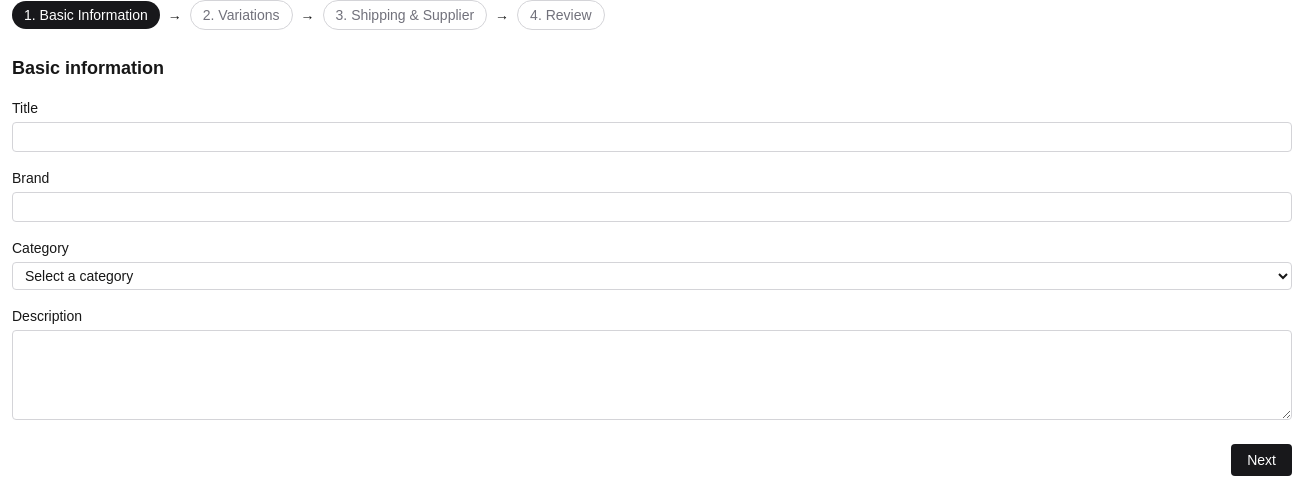
VariationsStep › starts with no variations
The width and height of the screenshot is (1304, 493).
Type "Wireless Mouse" into the field labelled "Title" at (652,137), box [12,122,1292,152]
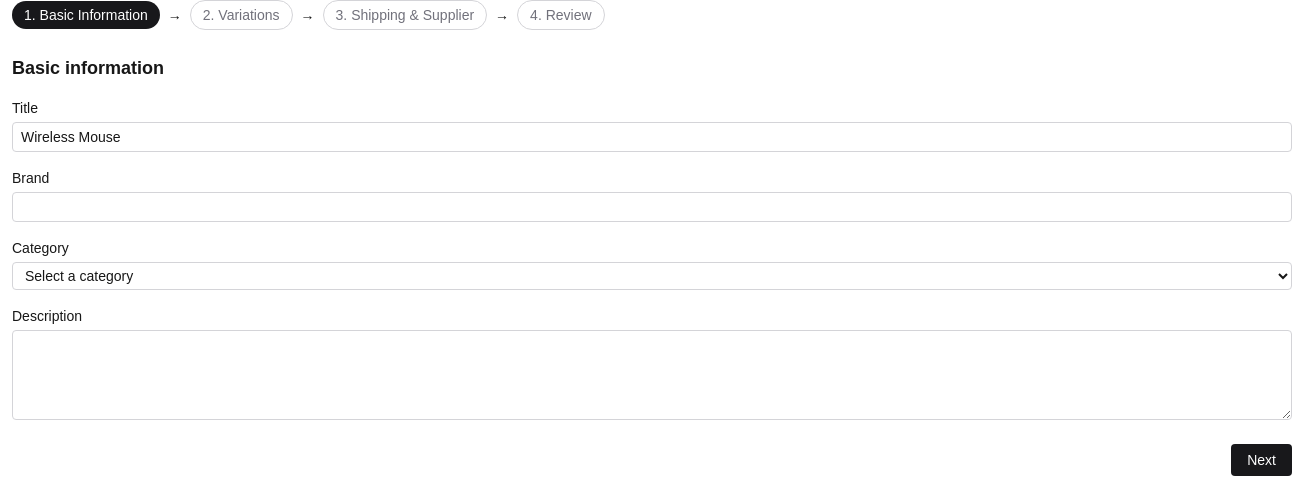
Type "Acme" into the field labelled "Brand" at (652,207), box [12,192,1292,222]
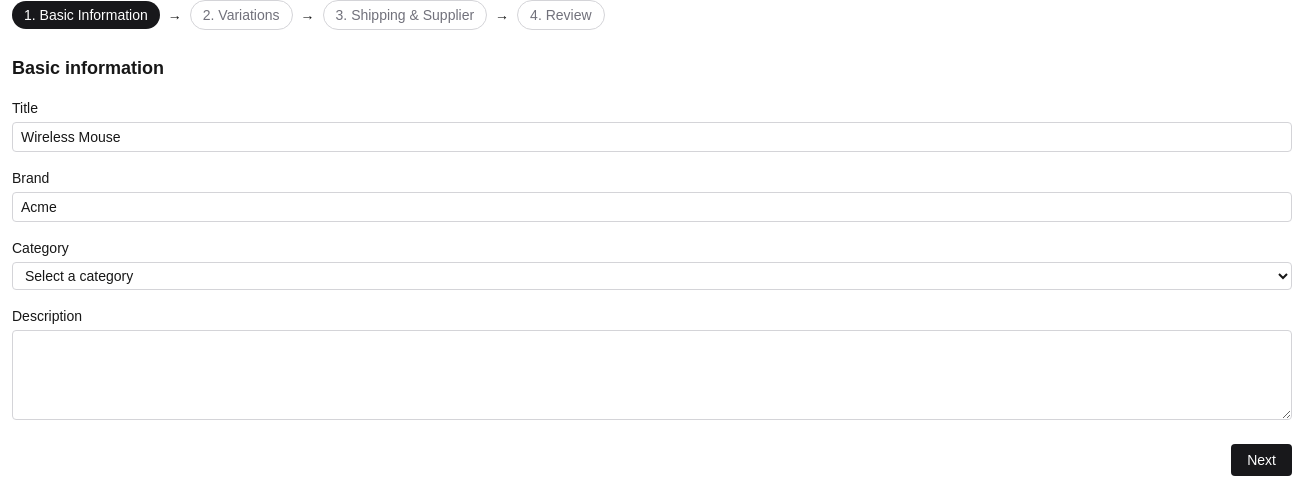
Select "Beauty" in the dropdown labelled "Category" at (652,276), box [12,262,1292,290]
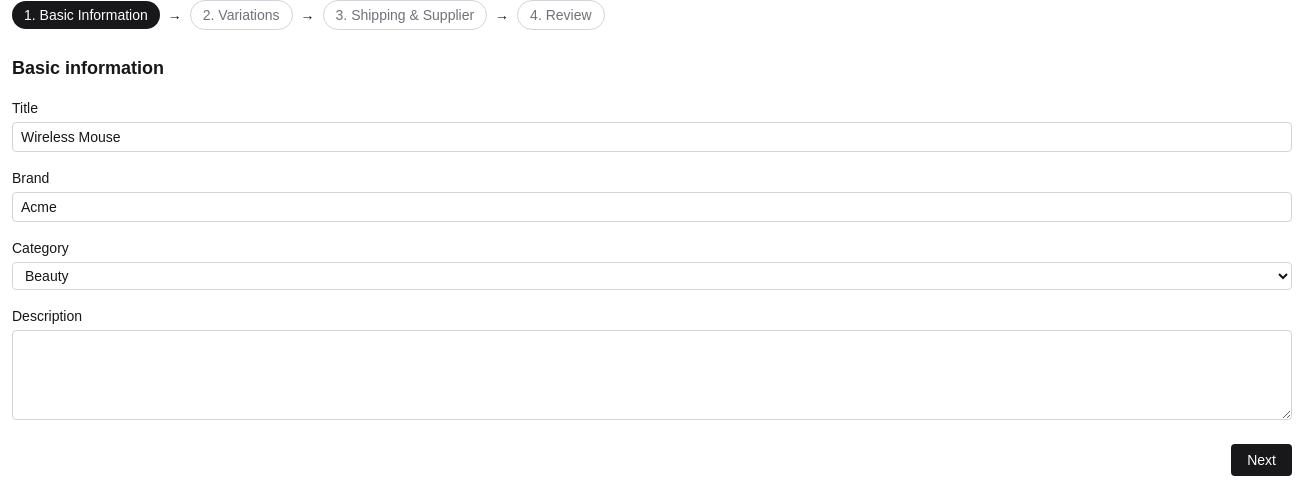
Type "A reliable wireless mouse with an ergonomic design and long battery life." into the text box labelled "Description" at (652,375), box [12,330,1292,420]
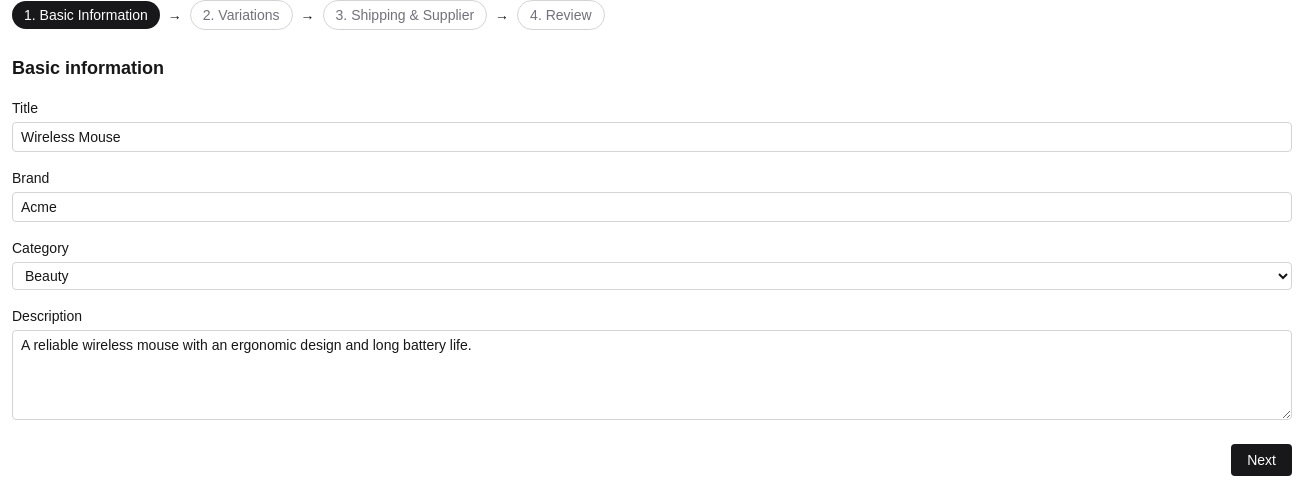
Click the button "Next" at (1262,460), box [1231,444,1292,476]
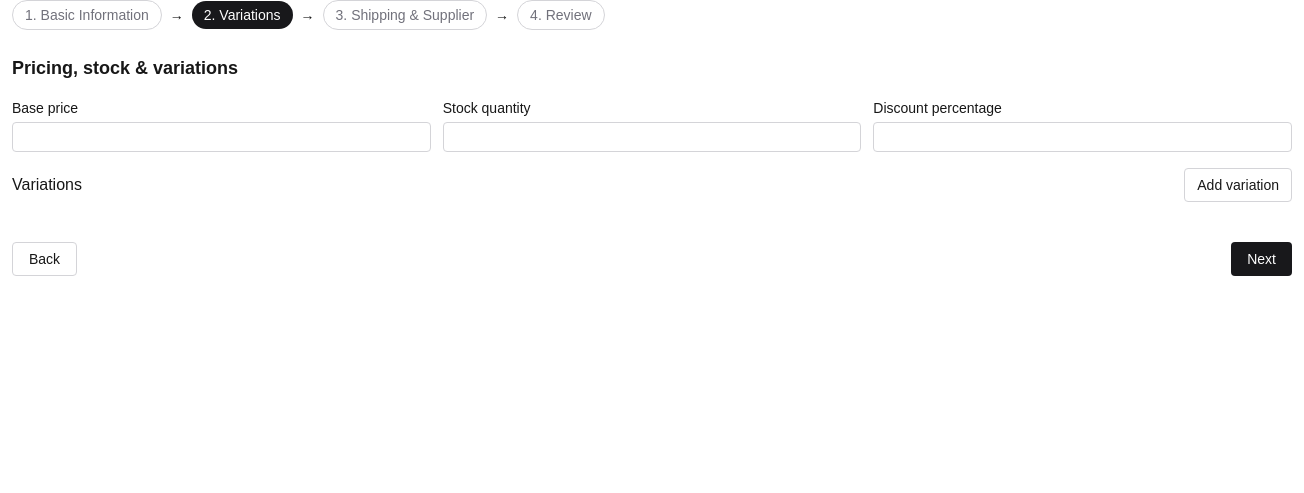
Now the heading "Pricing, stock & variations" is shown, box [12,58,238,78]
